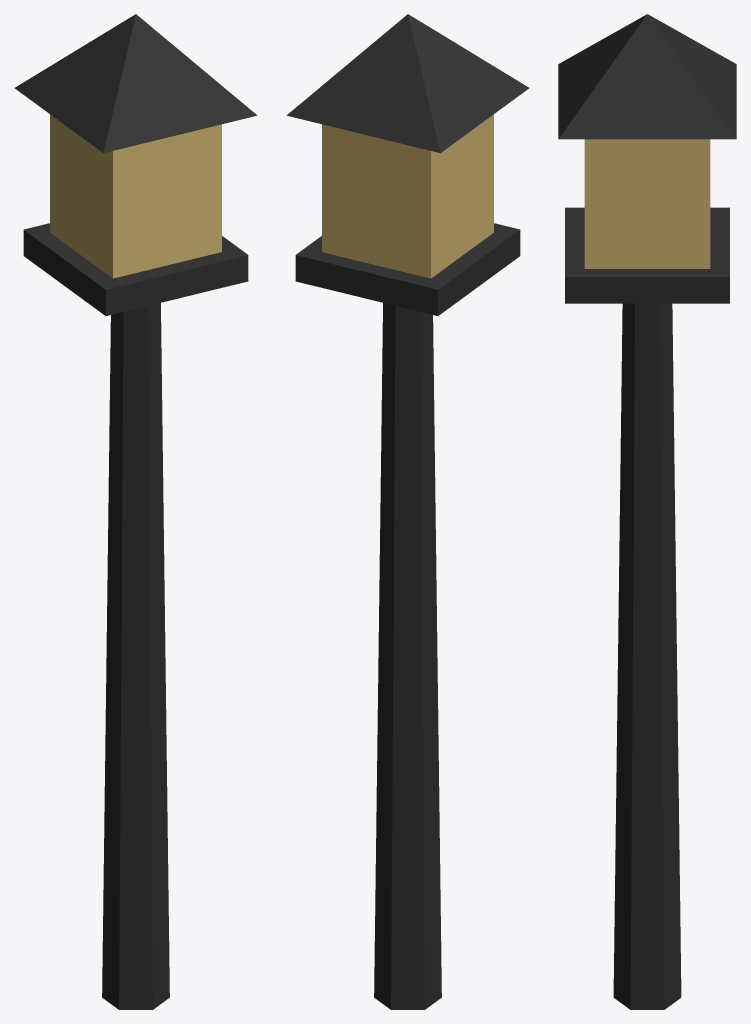
File: lantern.glb
3 renders of one model, left to right at view 1: azimuth 30°, elevation 25°; view 2: azimuth 150°, elevation 25°; view 3: azimuth 270°, elevation 25°, orthographic.
Parts seen in each view (by area): view 1: decor-lantern; view 2: decor-lantern; view 3: decor-lantern.
Boxes of the visible parts, x1=… form: decor-lantern: x1=14, y1=14, x2=257, y2=1009; decor-lantern: x1=286, y1=14, x2=529, y2=1009; decor-lantern: x1=558, y1=14, x2=736, y2=1009.
Bounding box in the file's own units: 0.3678 × 2.24 × 0.3678.
